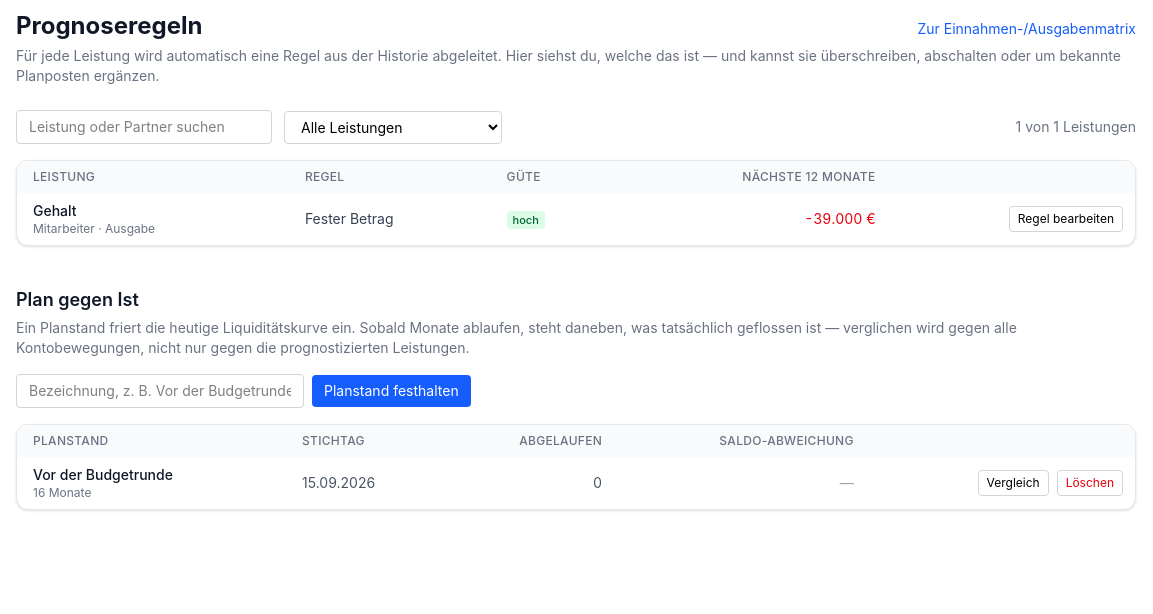
Test: ForecastPage – Plan gegen Ist › haelt den Vergleich zurueck, solange kein Monat abgelaufen ist
Step 1. Click the button "Vergleich" → (1013, 483), box [978,470,1049,496]
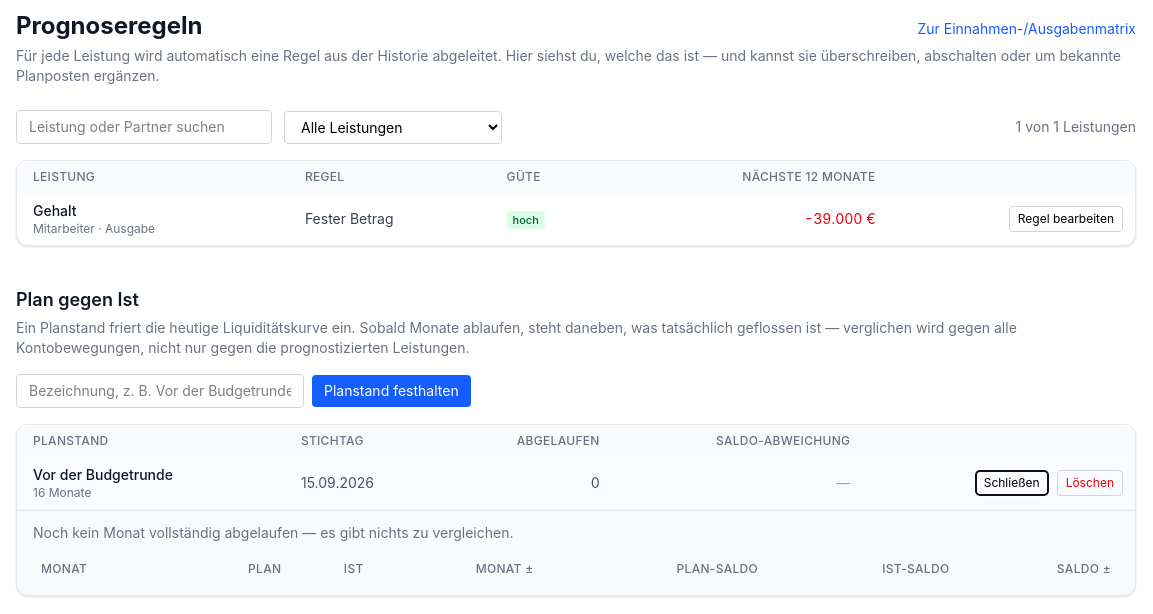
Now the text "Noch kein Monat vollständig abgelaufen" is shown, box [33,524,514,541]
